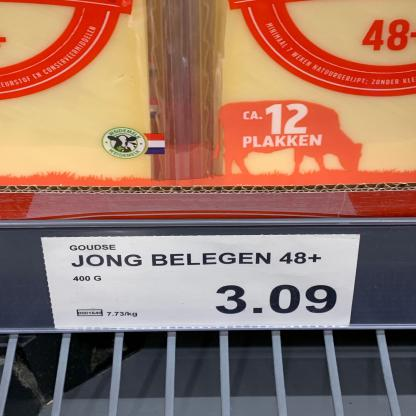prtg: (41, 235, 362, 330)
